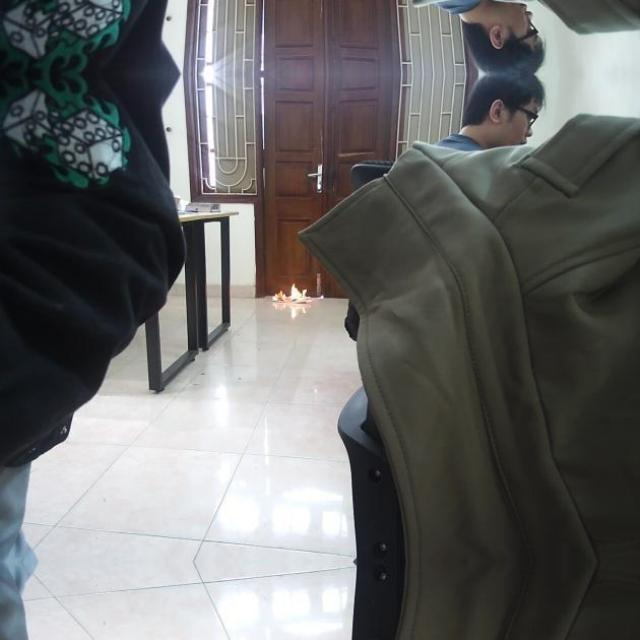smoke: (274, 281, 314, 302)
